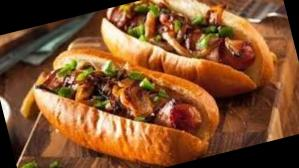Completos: (34, 22, 213, 168), (99, 0, 262, 130)
